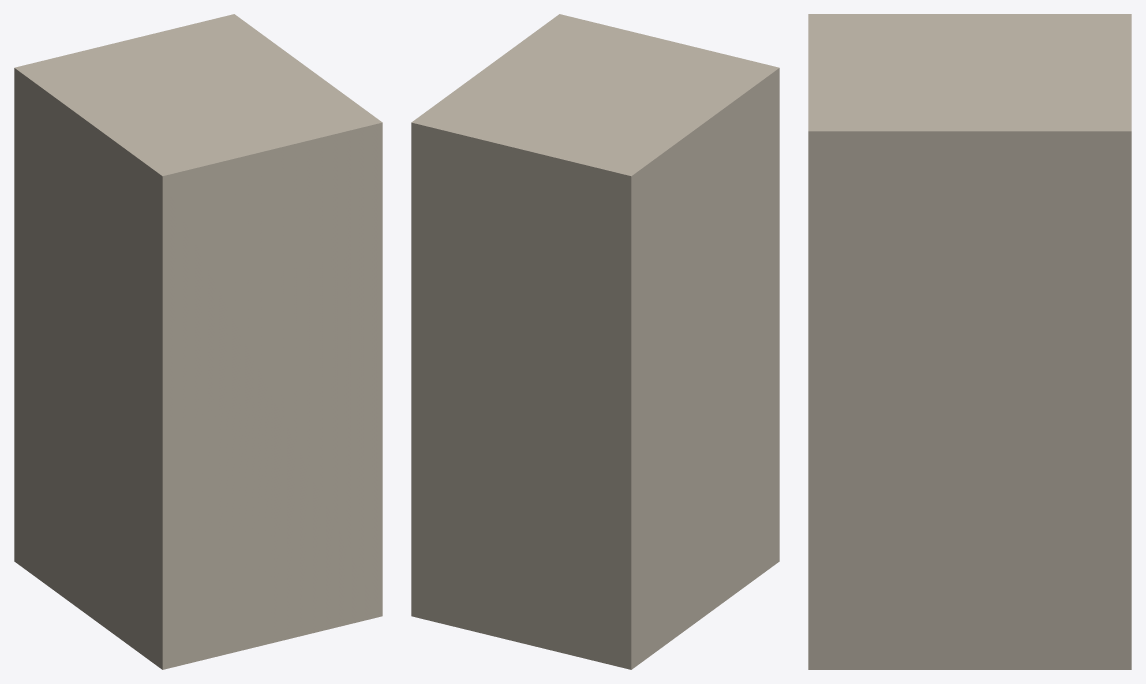
The model's file is ikea-stefan-00500229-g2-proxy.glb.
The picture shows the model from 3 angles, left to right: view 1: azimuth 30°, elevation 25°; view 2: azimuth 150°, elevation 25°; view 3: azimuth 270°, elevation 25°; orthographic projection. The views are drawn at different scales.
Visible parts, largest first — view 1: proxy_body; view 2: proxy_body; view 3: proxy_body.
Part boxes in pixels (x1,y1,x2,y2): proxy_body: [14, 14, 382, 669]; proxy_body: [411, 14, 779, 669]; proxy_body: [808, 14, 1131, 669].
Size of the model in its own units: 0.42 by 0.9 by 0.49.
